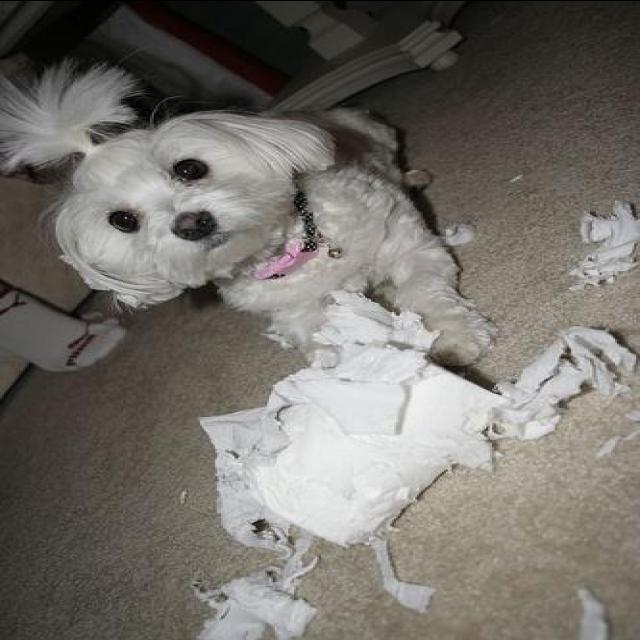maltese_dog: (2, 64, 500, 366)
